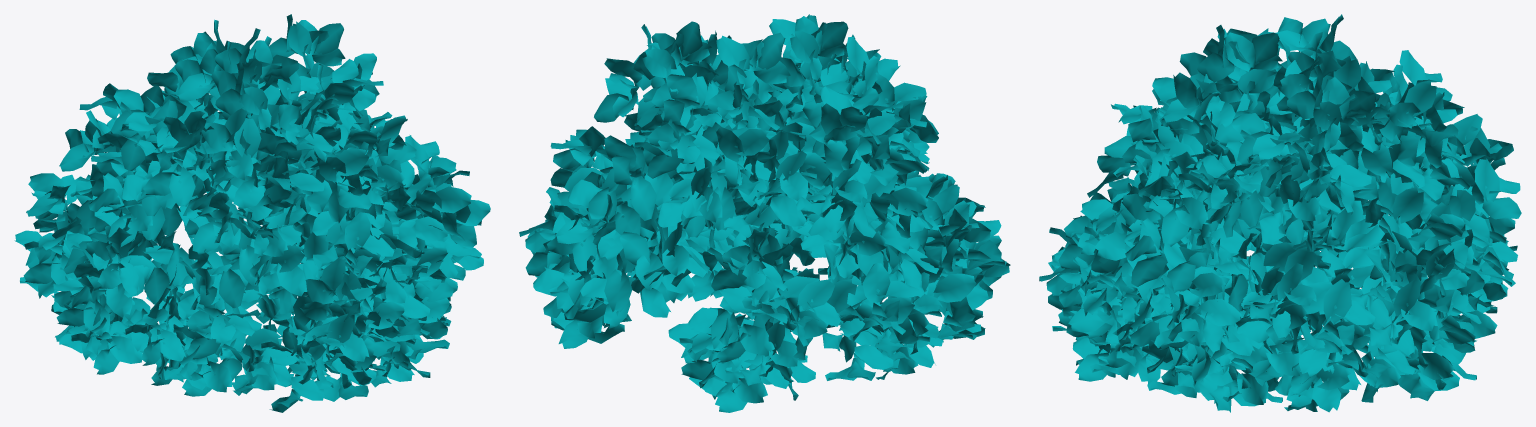
The model's file is betterbush.fbx.
3 renders of one model, left to right at view 1: azimuth 30°, elevation 25°; view 2: azimuth 150°, elevation 25°; view 3: azimuth 270°, elevation 25°, orthographic. The views are drawn at different scales.
Parts seen in each view (by area): view 1: bushes1Leaf; view 2: bushes1Leaf; view 3: bushes1Leaf.
Part boxes in pixels (bbox=[...]): bushes1Leaf: bbox=[14, 14, 490, 412]; bushes1Leaf: bbox=[519, 14, 1010, 412]; bushes1Leaf: bbox=[1039, 14, 1521, 412].
Size of the model in its own units: 19.78 by 13.63 by 19.24.
